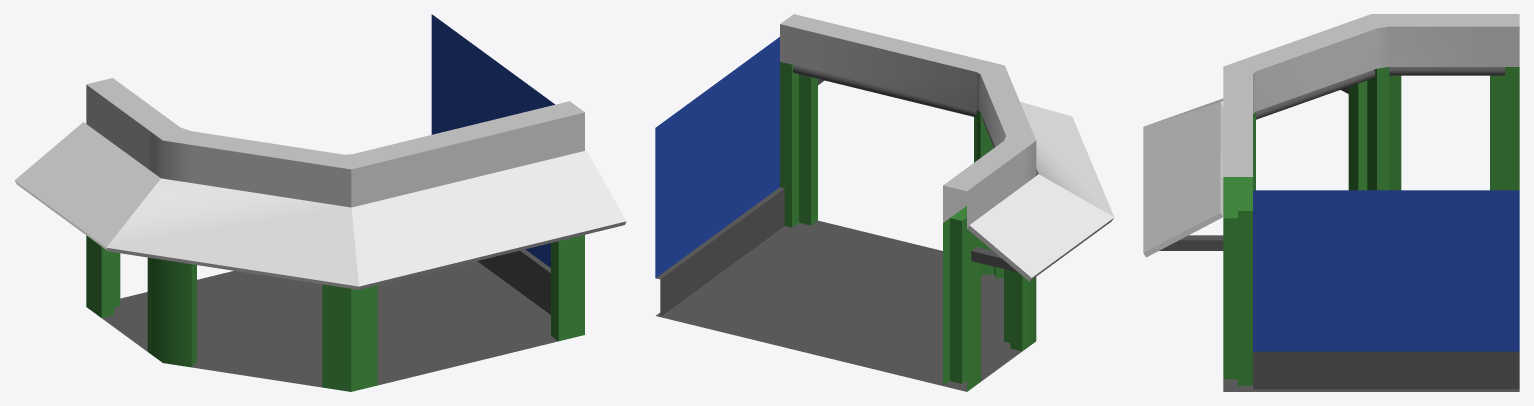
File: SM_Ext_FishMarket.fbx
The picture shows the model from 3 angles, left to right: view 1: azimuth 30°, elevation 25°; view 2: azimuth 150°, elevation 25°; view 3: azimuth 270°, elevation 25°; orthographic projection. The views are drawn at different scales.
Visible parts, largest first — view 1: Box063, Box060, Box056, Object006; view 2: Box060, Box056, Object006, Box063, Cylinder028, Box065; view 3: Object006, Box060, Box063, Cylinder028, Box056, Box065.
Part boxes in pixels (left/top/right/bottom): Box063: left=14, top=122, right=626, bottom=289; Box060: left=86, top=78, right=584, bottom=391; Box056: left=102, top=261, right=558, bottom=387; Object006: left=431, top=14, right=554, bottom=314; Box060: left=780, top=14, right=1036, bottom=391; Box056: left=656, top=220, right=1021, bottom=391; Object006: left=655, top=37, right=784, bottom=316; Box063: left=967, top=102, right=1114, bottom=281; Cylinder028: left=793, top=65, right=994, bottom=147; Box065: left=818, top=79, right=1017, bottom=272; Object006: left=1253, top=190, right=1519, bottom=389; Box060: left=1223, top=14, right=1519, bottom=385; Box063: left=1143, top=98, right=1223, bottom=257; Cylinder028: left=1256, top=67, right=1504, bottom=119; Box056: left=1223, top=379, right=1519, bottom=391; Box065: left=1159, top=87, right=1348, bottom=250.
Bounding box in the file's own units: 785 × 400 × 635.
